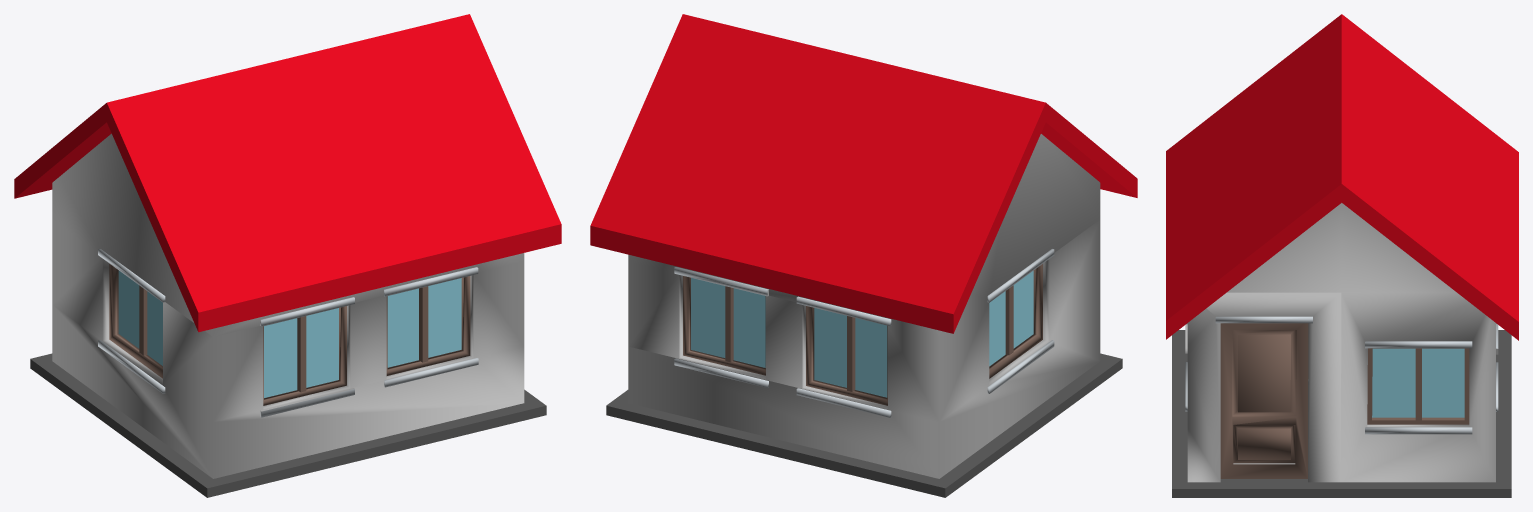
Rendered from house.glb.
The picture shows the model from 3 angles, left to right: view 1: azimuth 30°, elevation 25°; view 2: azimuth 150°, elevation 25°; view 3: azimuth 270°, elevation 25°; orthographic projection. The views are drawn at different scales.
Parts seen in each view (by area): view 1: Plane.002, Plane.001, Plane.018, Plane, Plane.015, Plane.011, Plane.009, Plane.012, Plane.013, Plane.014, Plane.010; view 2: Plane.002, Plane.001, Plane.018, Plane, Plane.015, Plane.007, Plane.009, Plane.005, Plane.006, Plane.008, Plane.010; view 3: Plane.002, Plane.001, Plane.016, Plane, Plane.003, Plane.015, Plane.017, Plane.004.
Boxes of the visible parts, x1=… form: Plane.002: x1=14, y1=14, x2=561, y2=332; Plane.001: x1=52, y1=133, x2=524, y2=478; Plane.018: x1=118, y1=270, x2=461, y2=397; Plane: x1=30, y1=353, x2=546, y2=497; Plane.015: x1=98, y1=249, x2=478, y2=417; Plane.011: x1=386, y1=276, x2=470, y2=375; Plane.009: x1=109, y1=263, x2=162, y2=378; Plane.012: x1=263, y1=306, x2=346, y2=405; Plane.013: x1=419, y1=286, x2=428, y2=362; Plane.014: x1=297, y1=316, x2=306, y2=392; Plane.010: x1=139, y1=285, x2=147, y2=355; Plane.002: x1=590, y1=14, x2=1137, y2=333; Plane.001: x1=628, y1=134, x2=1100, y2=478; Plane.018: x1=691, y1=271, x2=1033, y2=397; Plane: x1=606, y1=353, x2=1122, y2=497; Plane.015: x1=674, y1=249, x2=1054, y2=417; Plane.007: x1=806, y1=306, x2=887, y2=405; Plane.009: x1=989, y1=264, x2=1042, y2=378; Plane.005: x1=683, y1=276, x2=765, y2=375; Plane.006: x1=725, y1=286, x2=733, y2=362; Plane.008: x1=847, y1=316, x2=855, y2=391; Plane.010: x1=1005, y1=285, x2=1013, y2=355; Plane.002: x1=1166, y1=14, x2=1518, y2=340; Plane.001: x1=1185, y1=203, x2=1498, y2=482; Plane.016: x1=1220, y1=323, x2=1308, y2=478; Plane: x1=1172, y1=330, x2=1511, y2=497; Plane.003: x1=1372, y1=348, x2=1464, y2=417; Plane.015: x1=1185, y1=316, x2=1498, y2=434; Plane.017: x1=1367, y1=348, x2=1469, y2=424; Plane.004: x1=1415, y1=348, x2=1421, y2=420.
Bounding box in the file's own units: 4.18 × 3.67 × 3.67.
